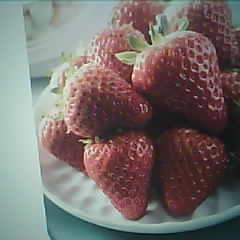straw-ripe: (133, 32, 229, 129), (66, 64, 151, 136), (84, 135, 155, 220), (161, 128, 228, 218)
